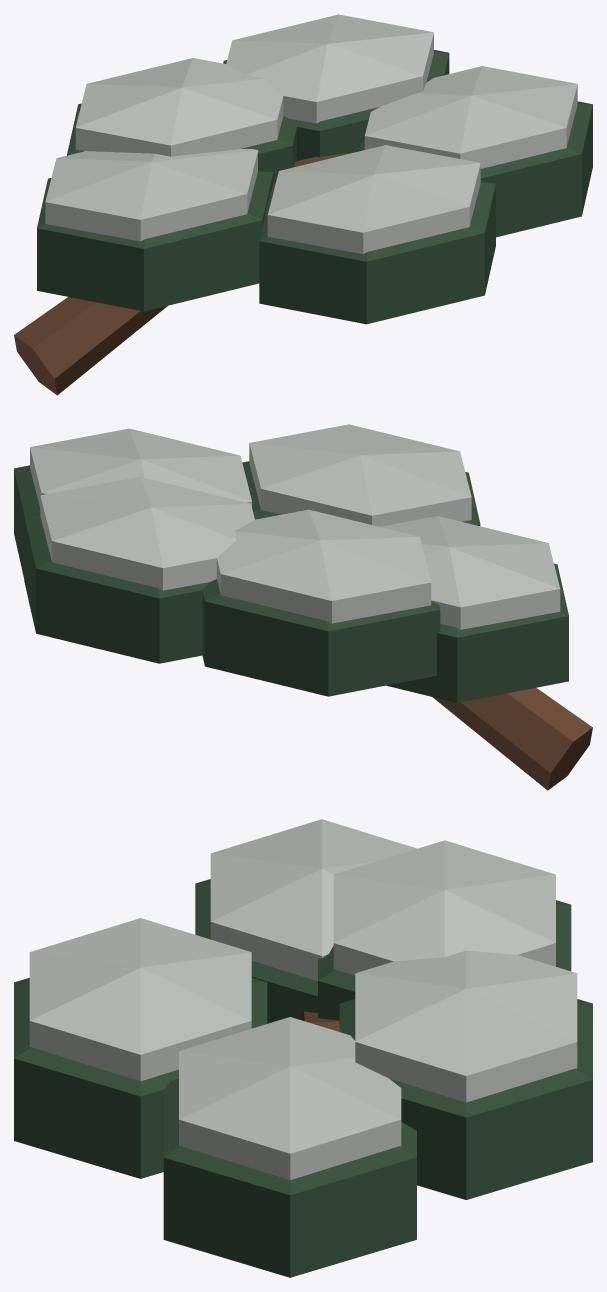
The model's file is Plant_Feature_Snow_BentSnowPine_001_LOD1.glb.
3 views of the same model, one above another, from view 1: azimuth 30°, elevation 25°; view 2: azimuth 150°, elevation 25°; view 3: azimuth 270°, elevation 25° (orthographic). The views are drawn at different scales.
Parts seen in each view (by area): view 1: Plant_Feature_Snow_BentSnowPine_001_LOD1; view 2: Plant_Feature_Snow_BentSnowPine_001_LOD1; view 3: Plant_Feature_Snow_BentSnowPine_001_LOD1.
Part boxes in pixels (box(x1,y1,x2,y2)): Plant_Feature_Snow_BentSnowPine_001_LOD1: box(14, 14, 592, 395); Plant_Feature_Snow_BentSnowPine_001_LOD1: box(14, 424, 592, 790); Plant_Feature_Snow_BentSnowPine_001_LOD1: box(14, 819, 592, 1277).
Bounding box in the file's own units: 3.26 × 1.25 × 2.23.
